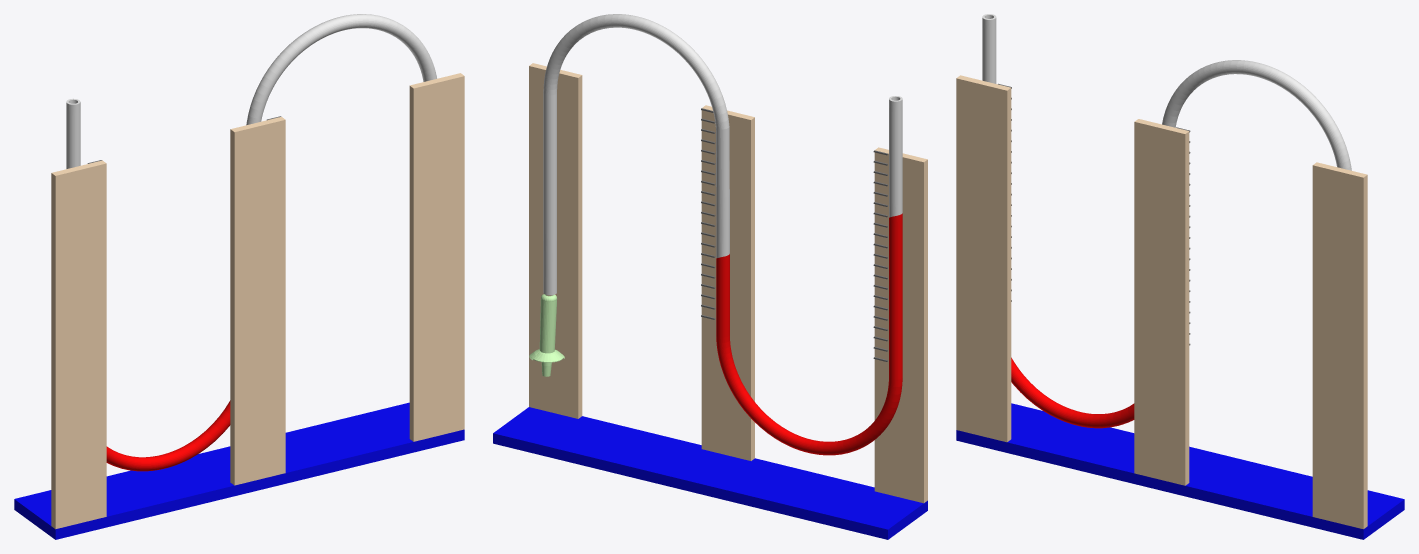
3 renders of one model, left to right at view 1: azimuth 30°, elevation 25°; view 2: azimuth 150°, elevation 25°; view 3: azimuth 330°, elevation 25°, orthographic. The views are drawn at different scales.
Visible parts, largest first — view 1: Componen01, Componen02, Component_, Componen03, Compone164, Compone163; view 2: Componen03, Componen02, Componen01, Component_, Compone164, Compone163, Componen36; view 3: Componen01, Componen02, Component_, Componen03, Compone164, Compone163.
Boxes of the visible parts, box(x1,y1,x2,y2) form: Componen01: box(409, 73, 464, 441); Componen02: box(51, 160, 106, 529); Component_: box(230, 117, 285, 485); Componen03: box(14, 402, 464, 539); Compone164: box(66, 14, 436, 168); Compone163: box(106, 400, 230, 471); Componen03: box(493, 407, 927, 539); Componen02: box(874, 147, 927, 503); Componen01: box(529, 63, 582, 418); Component_: box(701, 105, 754, 460); Compone164: box(543, 14, 902, 295); Compone163: box(716, 213, 902, 455); Componen36: box(539, 299, 557, 353); Componen01: box(1312, 162, 1367, 529); Componen02: box(956, 75, 1011, 442); Component_: box(1134, 119, 1189, 485); Componen03: box(956, 403, 1404, 539); Compone164: box(982, 14, 1351, 170); Compone163: box(1011, 357, 1134, 428).
Size of the model in its own units: 15.75 by 16.38 by 2.76.
